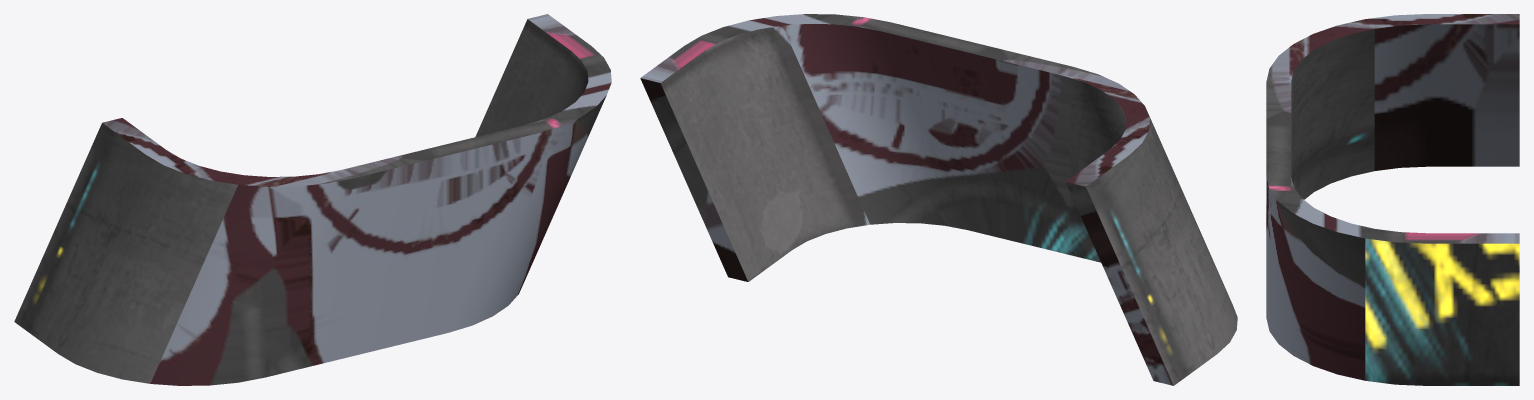
Rendered from duct_vert_lean_L.fbx.
3 views of the same model, side by side, from view 1: azimuth 30°, elevation 25°; view 2: azimuth 150°, elevation 25°; view 3: azimuth 270°, elevation 25° (orthographic). The views are drawn at different scales.
Parts seen in each view (by area): view 1: duct_vert_03.002; view 2: duct_vert_03.002; view 3: duct_vert_03.002.
Part boxes in pixels (x1,y1,x2,y2): duct_vert_03.002: (14,14,611,385); duct_vert_03.002: (640,14,1237,385); duct_vert_03.002: (1266,14,1519,385).
Size of the model in its own units: 5581 by 1776 by 2171.
